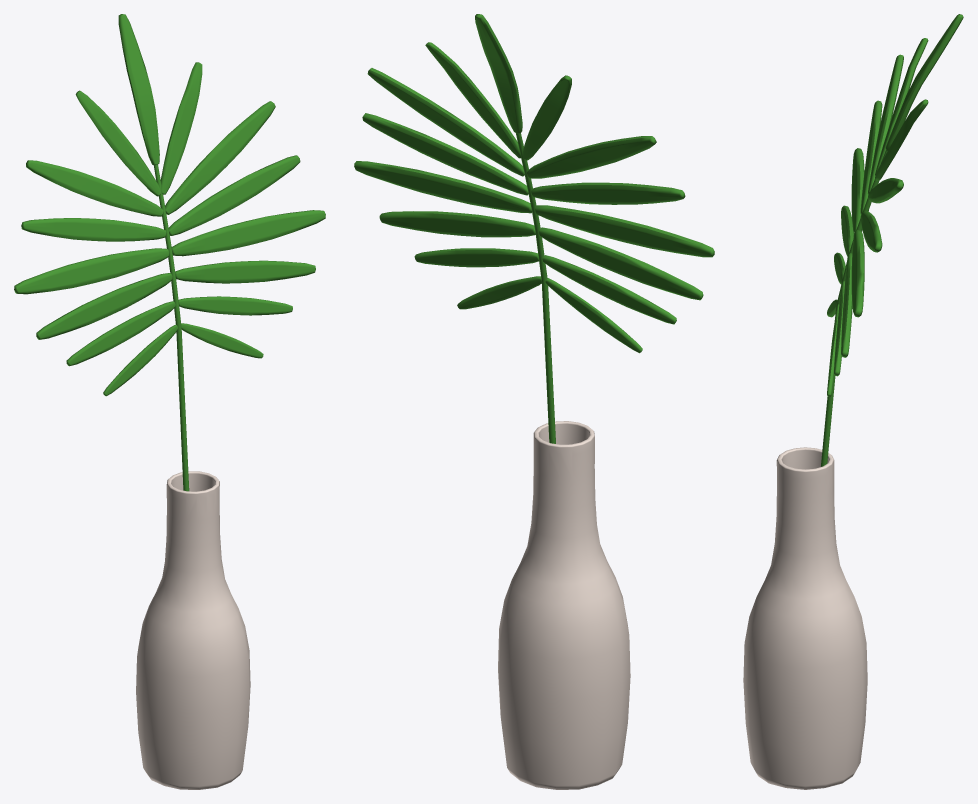
File: Plant_Vase_with_plant_1.glb
3 views of the same model, side by side, from view 1: azimuth 30°, elevation 25°; view 2: azimuth 150°, elevation 25°; view 3: azimuth 270°, elevation 25° (orthographic). The views are drawn at different scales.
Visible parts, largest first — view 1: Vase_with_plant_1; view 2: Vase_with_plant_1; view 3: Vase_with_plant_1.
Part boxes in pixels (x1,y1,x2,y2): Vase_with_plant_1: (14, 14, 325, 789); Vase_with_plant_1: (354, 14, 714, 789); Vase_with_plant_1: (743, 14, 963, 789).
Bounding box in the file's own units: 0.4764 × 1.03 × 0.2731.
1 material, 1 textured.
